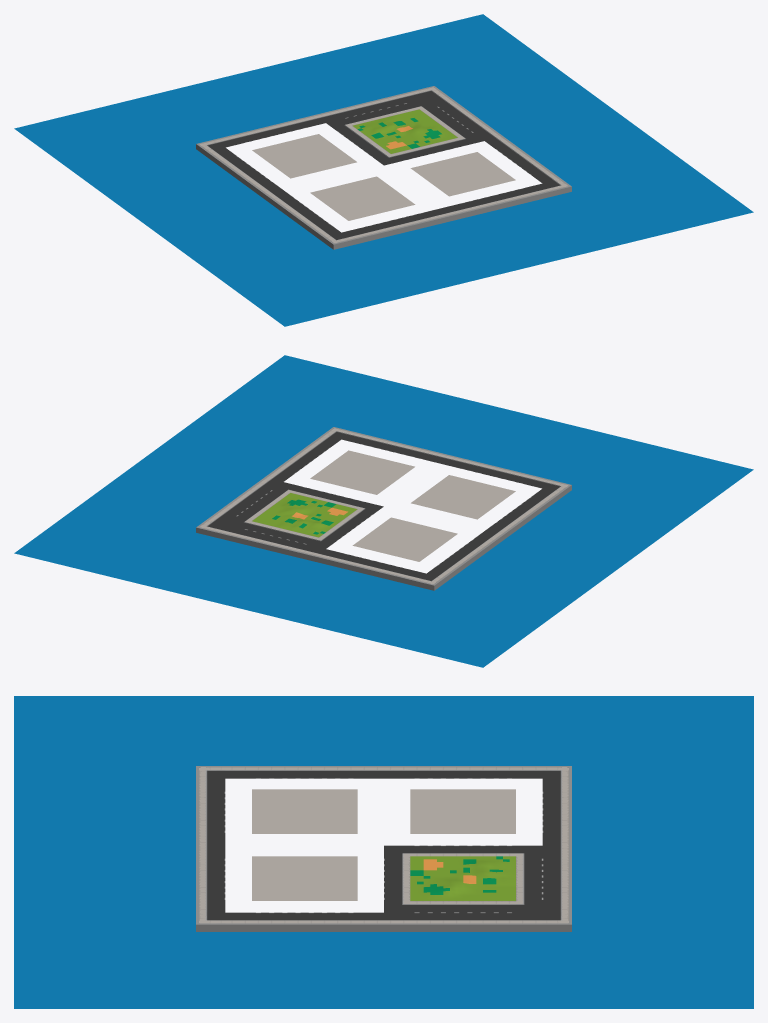
Rendered from Town.FBX.
3 views of the same model, one above another, from view 1: azimuth 30°, elevation 25°; view 2: azimuth 150°, elevation 25°; view 3: azimuth 270°, elevation 25° (orthographic). The views are drawn at different scales.
Parts seen in each view (by area): view 1: TownWater00, TownRoad00, TownGround01, TownRoad01, TownGround00; view 2: TownWater00, TownRoad00, TownGround01, TownRoad01, TownGround00; view 3: TownWater00, TownRoad00, TownGround01, TownRoad01, TownGround00.
Boxes of the visible parts, box(x1,y1,x2,y2) form: TownWater00: box(14, 14, 753, 326); TownRoad00: box(199, 87, 568, 243); TownGround01: box(252, 134, 515, 220); TownRoad01: box(326, 98, 483, 165); TownGround00: box(353, 109, 457, 153); TownWater00: box(14, 355, 753, 667); TownRoad00: box(199, 428, 568, 584); TownGround01: box(310, 450, 515, 561); TownRoad01: box(225, 482, 383, 548); TownGround00: box(252, 493, 357, 537); TownWater00: box(14, 696, 753, 1008); TownRoad00: box(199, 767, 568, 923); TownGround01: box(252, 789, 515, 900); TownRoad01: box(384, 845, 542, 912); TownGround00: box(410, 856, 515, 900).
Size of what is drawn, in the model's own units: 28000 by 391 by 28000.
